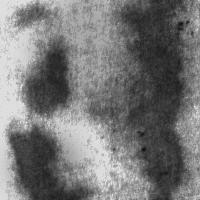patches: (31, 0, 147, 115), (125, 1, 187, 195), (9, 122, 84, 198), (11, 132, 81, 200), (21, 40, 68, 119), (9, 1, 49, 28)
